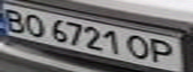1: (100, 27, 124, 56)
2: (81, 24, 103, 53)
6: (45, 17, 69, 44)
7: (63, 20, 84, 47)
B: (0, 6, 30, 34)
O: (124, 33, 154, 62), (21, 11, 48, 38)
P: (145, 36, 181, 65)
